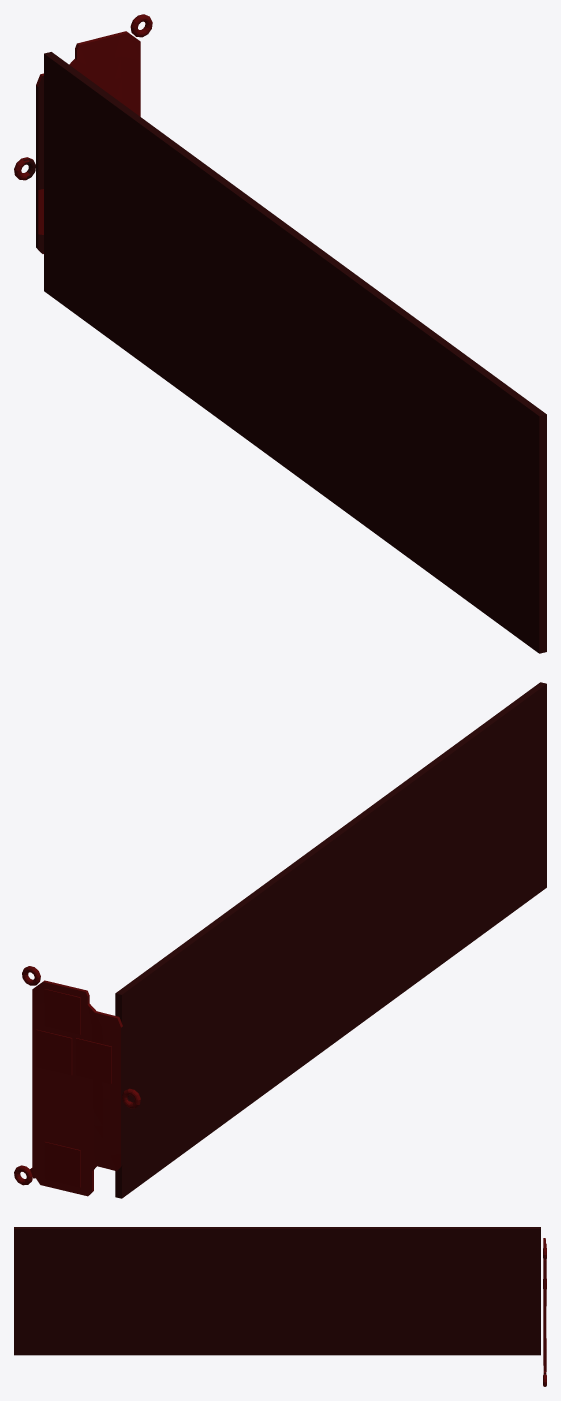
Rendered from matlib_starlink_v1.obj.
3 renders of one model, top to bottom at view 1: azimuth 30°, elevation 25°; view 2: azimuth 150°, elevation 25°; view 3: azimuth 270°, elevation 25°, orthographic. The views are drawn at different scales.
Visible parts, largest first — view 1: mesh1; view 2: mesh1; view 3: mesh1.
Part boxes in pixels (x1,y1,x2,y2): mesh1: (14,14,546,653); mesh1: (14,682,546,1198); mesh1: (14,1227,546,1386).
Size of the model in its own units: 0.4763 by 0.7947 by 2.81.
